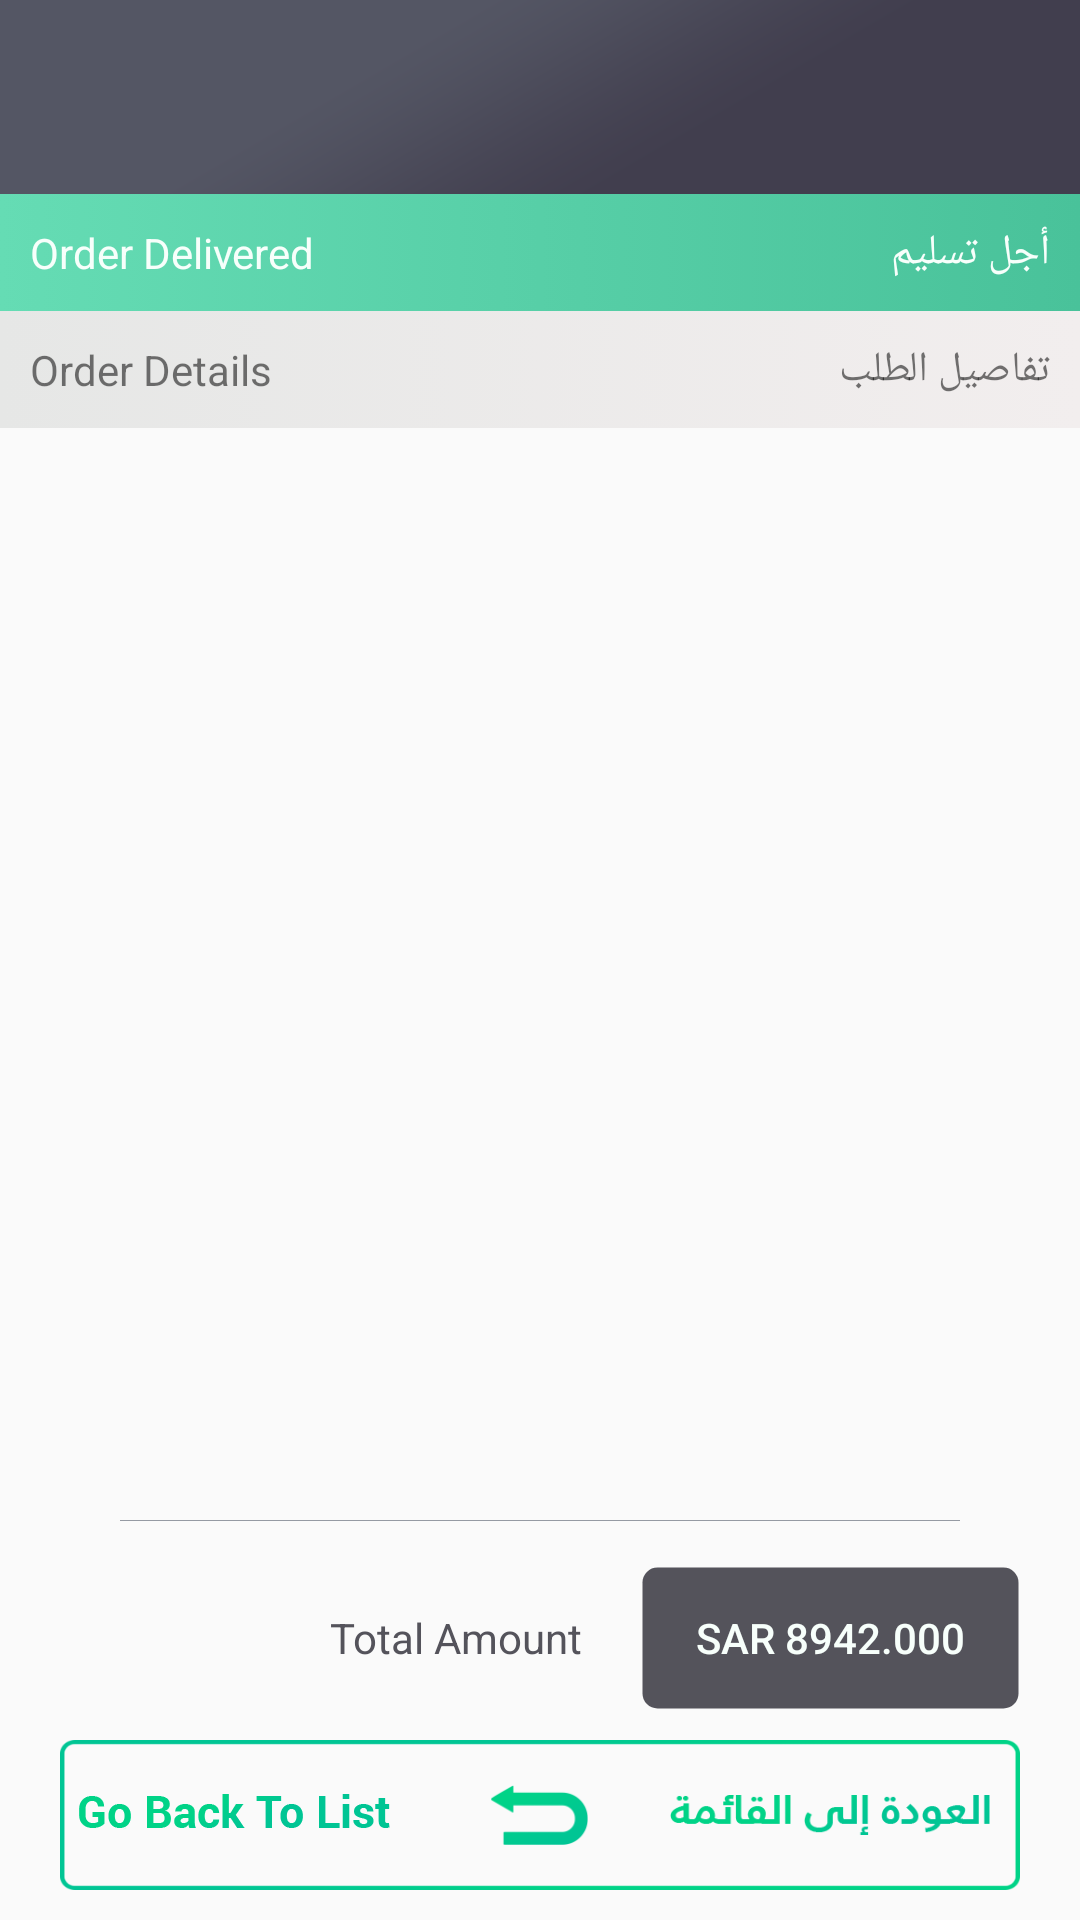

Where icons sit on this 1080x1920 app screen, as BBox(x1, y1, x2, y2):
go back: BBox(491, 1786, 588, 1845)
